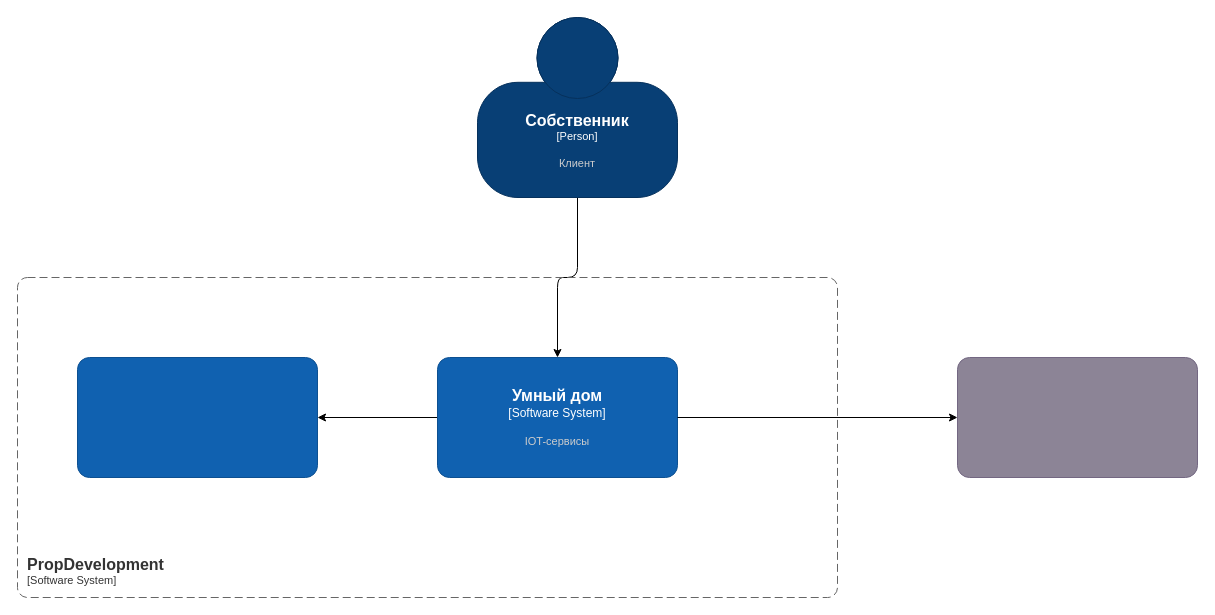
Image size: 1215x615. Some labels were removed from this diagram. Each missing label, with the centre of its shape:
Auth [Software System] Сервис аутентификации: pixel 197 417
Поставщик "Умного дома" [Software System] Предоставляет сервисы: pixel 1077 417
